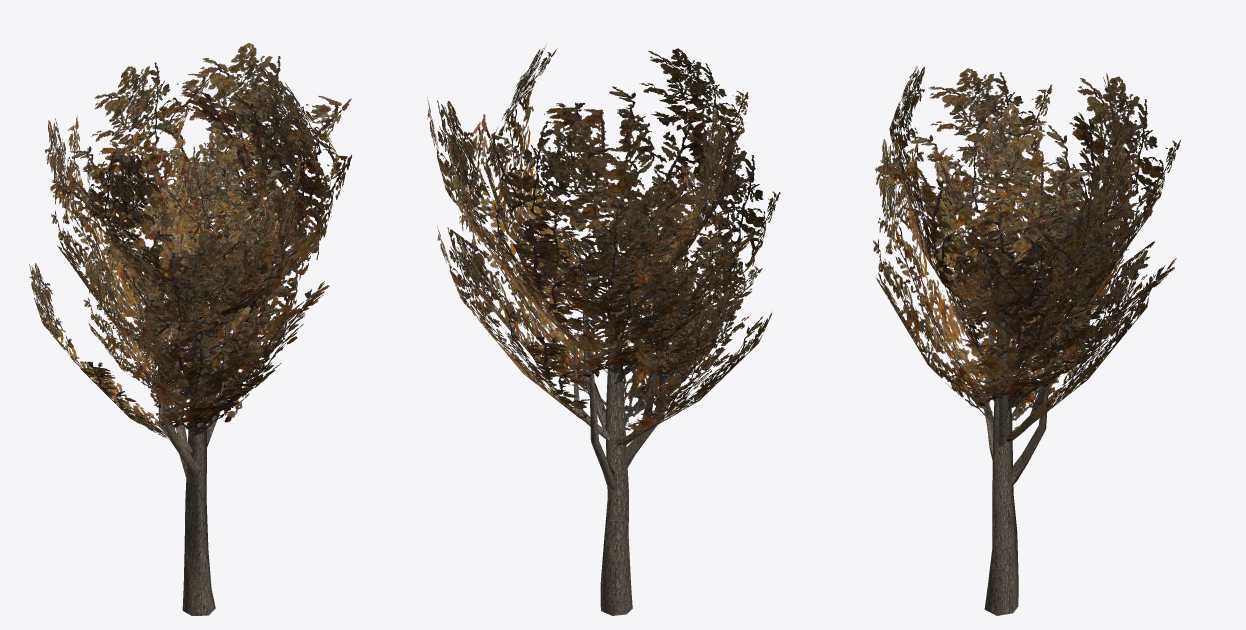
The model's file is tree_decid_med_leaf.fbx.
3 renders of one model, left to right at view 1: azimuth 30°, elevation 25°; view 2: azimuth 150°, elevation 25°; view 3: azimuth 270°, elevation 25°, orthographic. The views are drawn at different scales.
Visible parts, largest first — view 1: mesh_0, mesh_1; view 2: mesh_0, mesh_1; view 3: mesh_0, mesh_1.
Boxes of the visible parts, x1=… form: mesh_0: x1=29, y1=43, x2=351, y2=439; mesh_1: x1=158, y1=257, x2=229, y2=615; mesh_0: x1=427, y1=44, x2=780, y2=444; mesh_1: x1=573, y1=241, x2=664, y2=615; mesh_0: x1=873, y1=66, x2=1180, y2=441; mesh_1: x1=983, y1=248, x2=1061, y2=615.
Size of the model in its own units: 629 by 914 by 599.
Materials: 2 (2 with a texture image).
